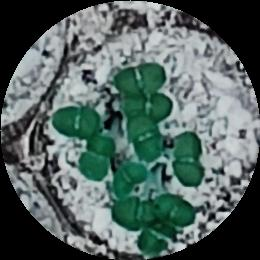Basil: (173, 130, 205, 187), (112, 63, 168, 94), (128, 119, 167, 159), (78, 140, 115, 178), (111, 159, 147, 198), (110, 201, 162, 228), (53, 106, 98, 135), (120, 96, 174, 119), (139, 221, 174, 255), (160, 195, 195, 227)
